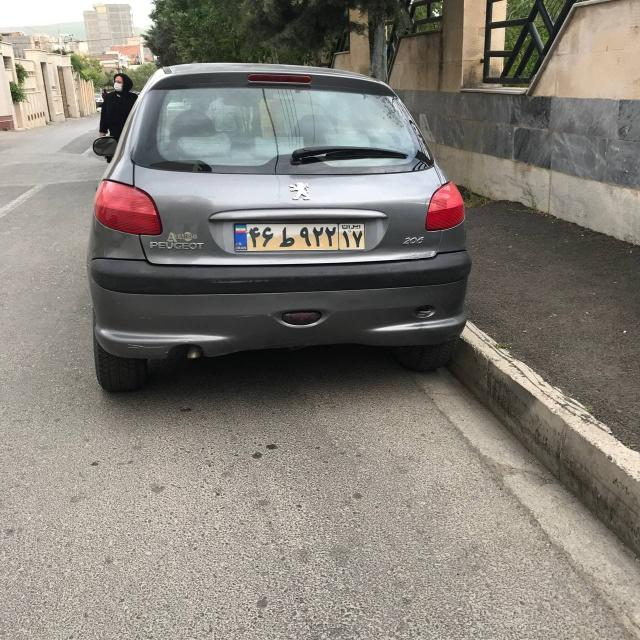Plates: (234, 222, 365, 251)
